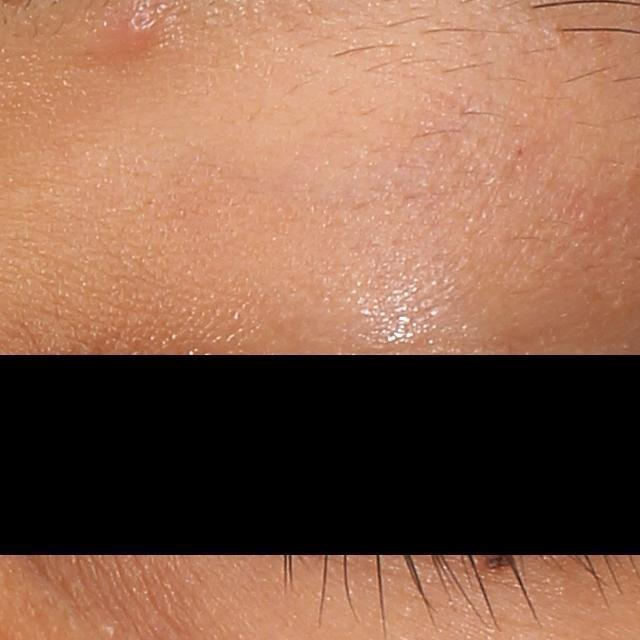nevus: (480, 546, 520, 572)
papule: (116, 10, 163, 52)
